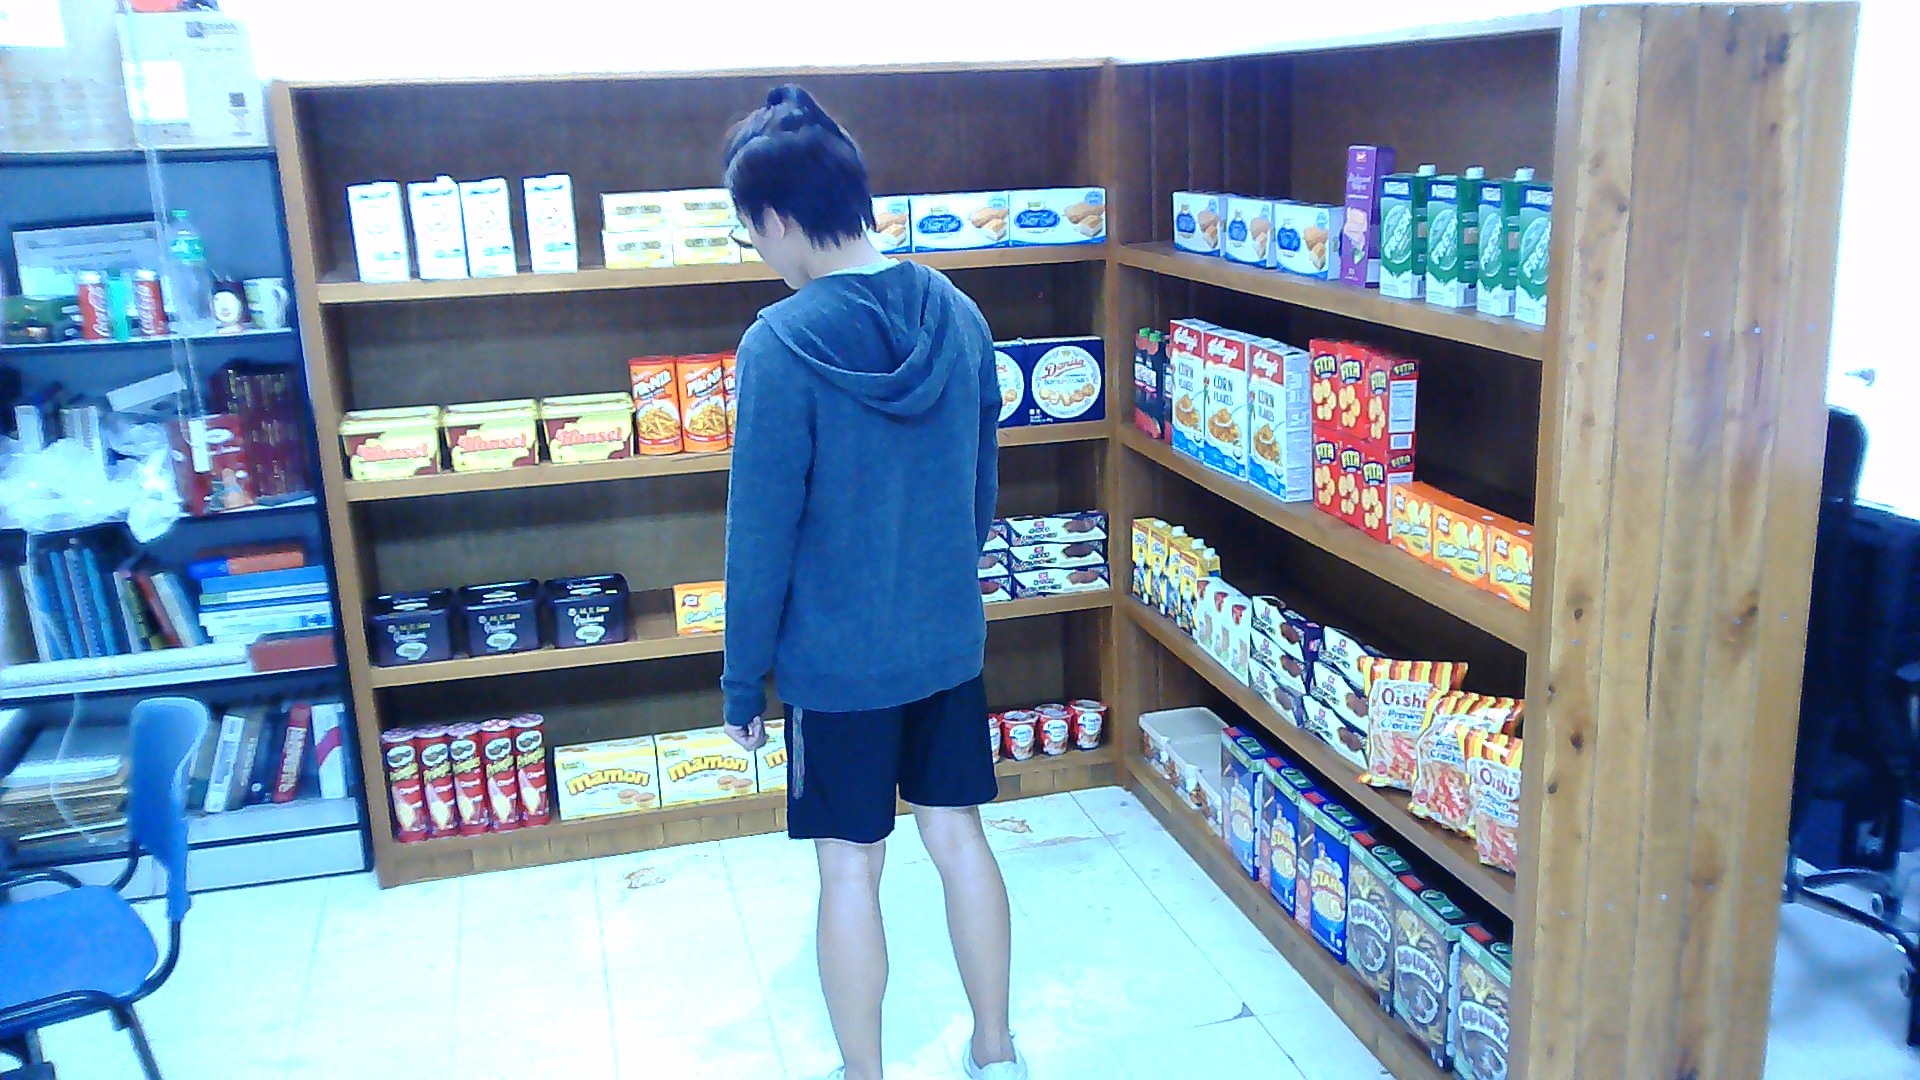Bear brand: (408, 175, 468, 276), (348, 180, 408, 279), (458, 177, 515, 274), (522, 173, 576, 270)
Buttercake: (909, 189, 1008, 252), (1008, 186, 1104, 245), (1274, 200, 1343, 279), (1223, 196, 1298, 268), (1173, 189, 1245, 257), (864, 195, 909, 254)
Butterlicious: (1430, 495, 1511, 589), (1391, 479, 1454, 562), (1488, 518, 1533, 612), (671, 578, 722, 634)
Camomille: (600, 230, 672, 266), (600, 189, 669, 227), (668, 189, 737, 225), (672, 225, 738, 263), (740, 247, 761, 261)
Choco Crunchies: (1250, 594, 1319, 664), (1302, 695, 1368, 769), (1317, 625, 1389, 688), (1308, 659, 1365, 731), (1251, 627, 1311, 692), (1005, 508, 1107, 544), (1248, 659, 1302, 727), (1011, 562, 1110, 598), (1011, 540, 1107, 572), (978, 575, 1011, 602), (981, 517, 1008, 549), (978, 548, 1008, 575)
Chocolate Chips: (1137, 704, 1227, 778), (1164, 732, 1218, 808), (1193, 758, 1220, 837)
Chuckie: (1167, 536, 1206, 628), (1181, 547, 1220, 641), (1131, 515, 1170, 605), (1152, 524, 1188, 616)
Danisa: (1022, 333, 1103, 425), (992, 340, 1025, 428)
Fita: (1359, 441, 1413, 542), (1365, 350, 1419, 449), (1338, 342, 1386, 436), (1308, 338, 1356, 430), (1335, 432, 1362, 524), (1314, 423, 1338, 513)
Fresh Milk: (1425, 166, 1491, 306), (1478, 167, 1535, 315), (1380, 164, 1440, 297), (1515, 180, 1551, 324)
Grahams: (365, 587, 452, 666), (456, 575, 540, 654), (543, 572, 627, 646)
Hansel: (339, 405, 441, 477), (441, 398, 537, 468), (540, 389, 636, 459)
Head: (699, 70, 894, 302)
Honey Stars: (1292, 787, 1373, 963), (1257, 754, 1323, 918), (1220, 722, 1277, 882)
Kellogg Corn Flakes: (1247, 338, 1310, 502), (1203, 326, 1263, 479), (1169, 317, 1220, 461)
Kimchi Noodles: (1035, 702, 1074, 756), (1002, 709, 1038, 761), (1068, 699, 1104, 748), (987, 711, 999, 765)
Koko Krunch: (1391, 871, 1478, 1071), (1343, 828, 1418, 1017), (1452, 920, 1512, 1077)
Mamon: (554, 735, 659, 818), (654, 724, 756, 805), (756, 718, 786, 792)
Oishi Prawn: (1406, 686, 1523, 839), (1353, 652, 1467, 789), (1455, 724, 1521, 875)
Pik-nik: (629, 353, 680, 454), (675, 350, 726, 449), (719, 348, 734, 445)
Pringles: (380, 726, 425, 841), (417, 722, 459, 837), (447, 719, 489, 834), (509, 711, 548, 828), (479, 717, 518, 830)
Super Fruits: (1146, 329, 1167, 439), (1134, 324, 1155, 430), (1160, 335, 1169, 445)
Wafer: (1341, 144, 1395, 288)
iHop: (1212, 585, 1248, 668), (1196, 575, 1229, 654), (1230, 598, 1248, 686)
